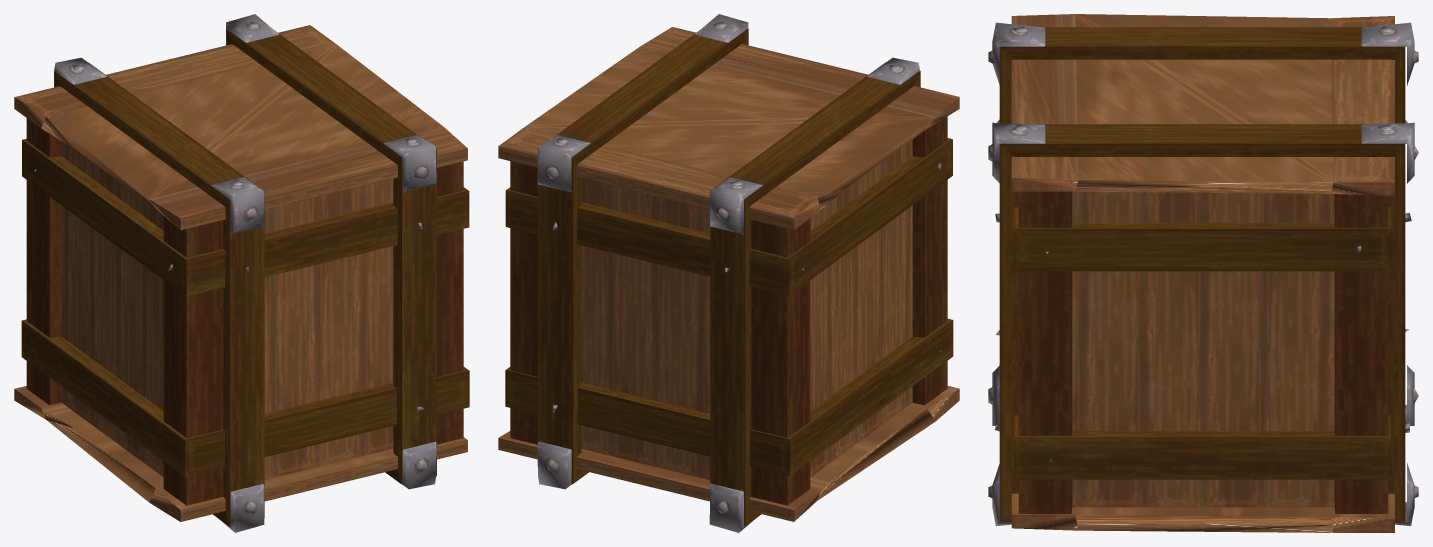
File: Crate_Wooden.medium.gltf
The picture shows the model from 3 angles, left to right: view 1: azimuth 30°, elevation 25°; view 2: azimuth 150°, elevation 25°; view 3: azimuth 270°, elevation 25°; orthographic projection. The views are drawn at different scales.
Visible parts, largest first — view 1: Crate_Wooden; view 2: Crate_Wooden; view 3: Crate_Wooden.
Part boxes in pixels (x1,y1,x2,y2): Crate_Wooden: (14,14,469,532); Crate_Wooden: (498,14,959,532); Crate_Wooden: (988,14,1418,532).
Bounding box in the file's own units: 0.8422 × 0.9209 × 0.9083.
2 materials, 2 textured.
